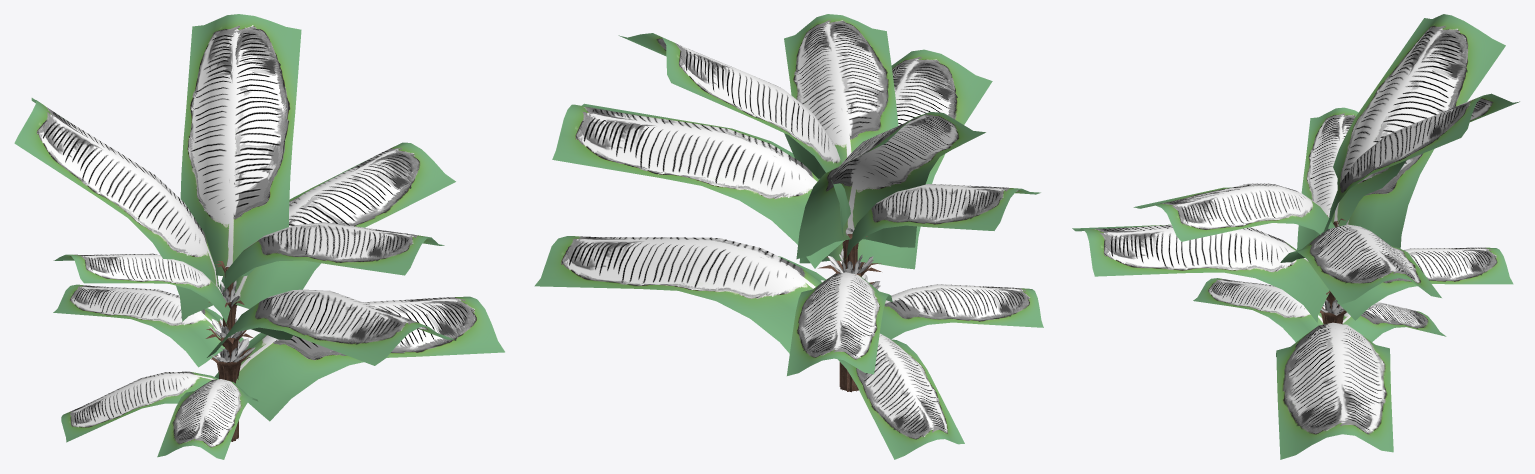
The model's file is SM_jungle_01.fbx.
The picture shows the model from 3 angles, left to right: view 1: azimuth 30°, elevation 25°; view 2: azimuth 150°, elevation 25°; view 3: azimuth 270°, elevation 25°; orthographic projection. The views are drawn at different scales.
Visible parts, largest first — view 1: SM_jungle_01_LOD0; view 2: SM_jungle_01_LOD0; view 3: SM_jungle_01_LOD0.
Part boxes in pixels (<box>): SM_jungle_01_LOD0: <box>14,14,504,459</box>; SM_jungle_01_LOD0: <box>534,14,1043,459</box>; SM_jungle_01_LOD0: <box>1072,14,1519,459</box>.
Bounding box in the file's own units: 228 × 219 × 179.
2 materials, 2 textured.
